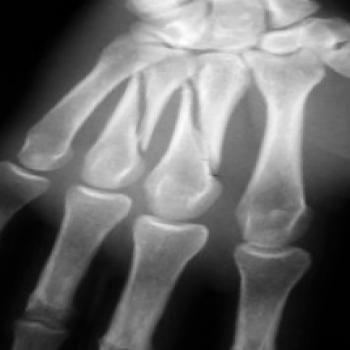Fracture: (180, 72, 231, 190), (126, 66, 158, 164)
